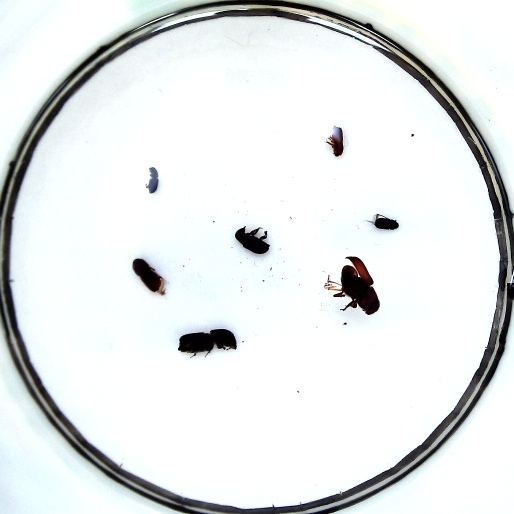acuminatus: (328, 125, 345, 158)
armandi: (234, 226, 269, 257)
boerner: (179, 328, 237, 354)
coleoptera: (372, 213, 399, 232), (145, 165, 159, 196)
leconte: (325, 257, 380, 313)
linnaeus: (134, 258, 163, 295)
